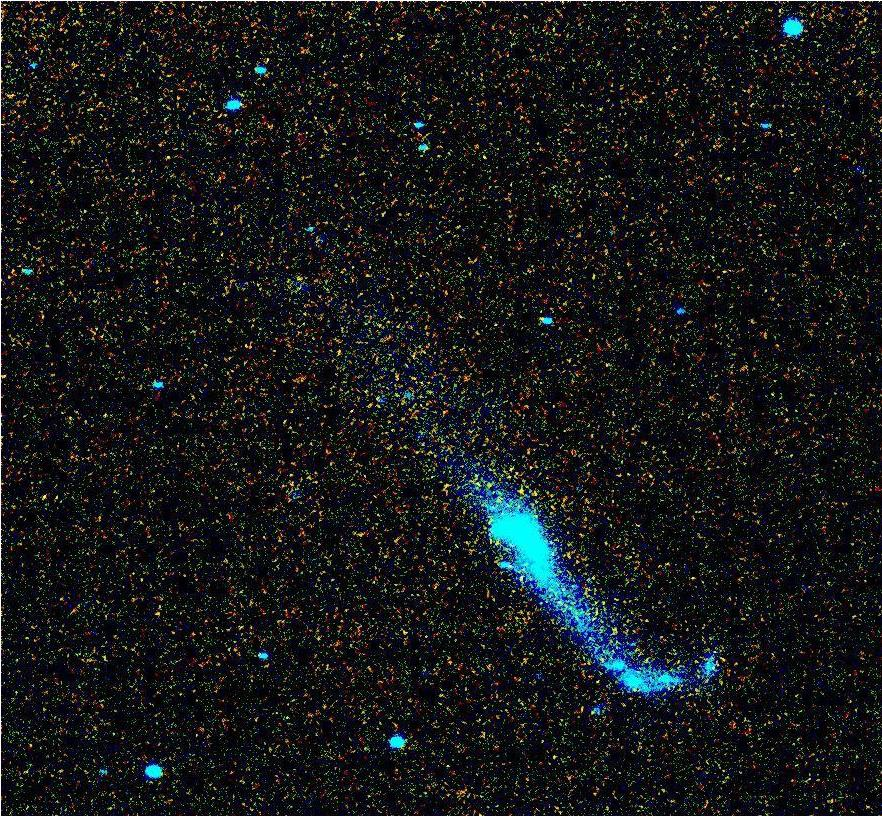star: (152, 142, 182, 172)
